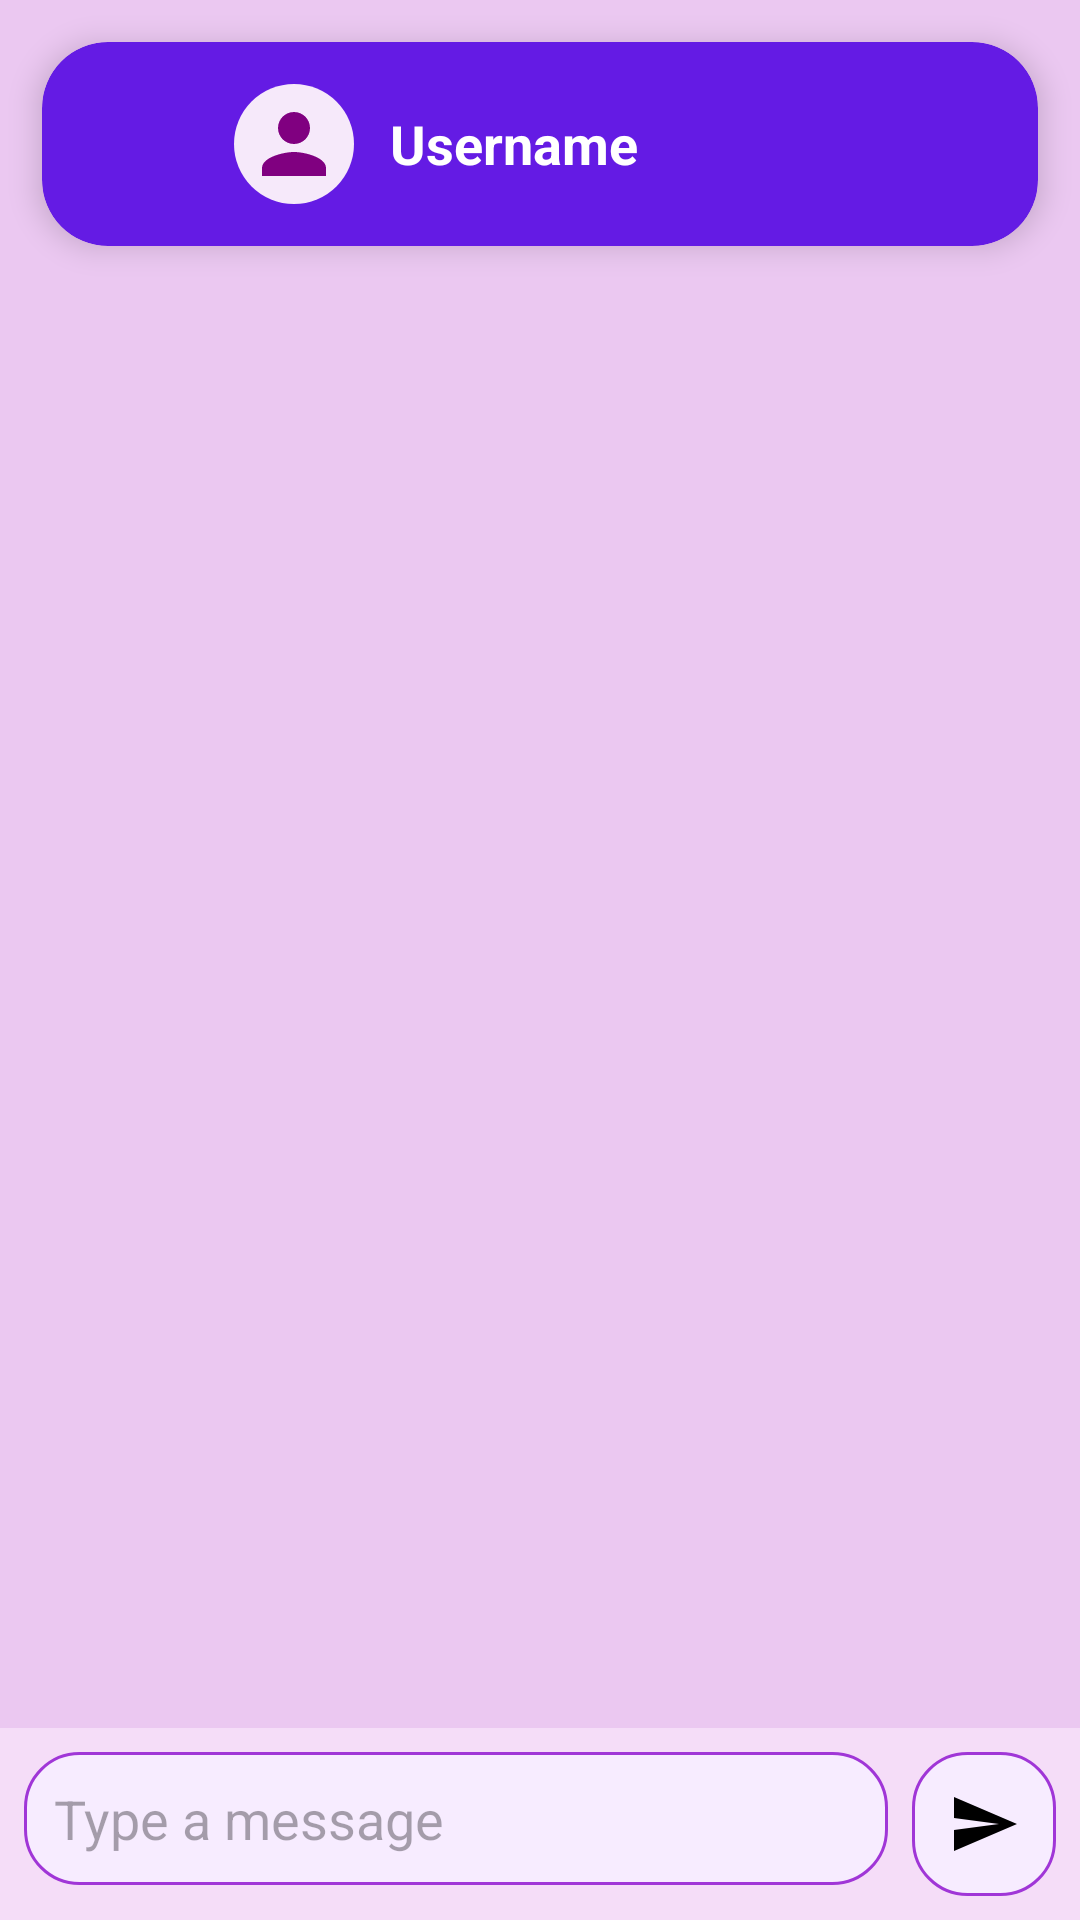

Locate icon controls on the screen. Image size 1080px x 1920px, boxes as (x1, y1, x2, y2).
account circle: (234, 84, 354, 204)
send: (912, 1752, 1056, 1896)
